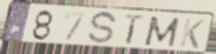7: (62, 11, 86, 43)
8: (32, 10, 54, 41)
K: (178, 17, 206, 50)
M: (142, 15, 182, 49)
S: (86, 11, 118, 47)
T: (124, 13, 147, 47)
